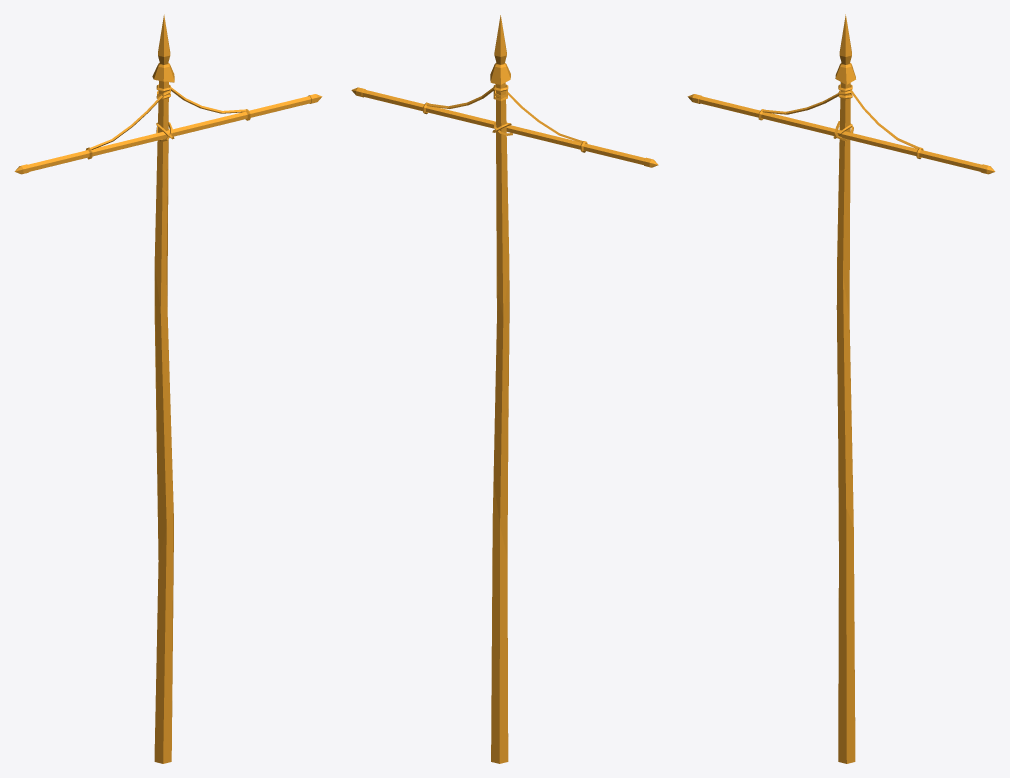
Rendered from SM_Flag_Stand_Wood_T_C_Fantasy.fbx.
The picture shows the model from 3 angles, left to right: view 1: azimuth 30°, elevation 25°; view 2: azimuth 150°, elevation 25°; view 3: azimuth 330°, elevation 25°; orthographic projection.
Visible parts, largest first — view 1: flag-stand-wood-t-c-fantasy; view 2: flag-stand-wood-t-c-fantasy; view 3: flag-stand-wood-t-c-fantasy.
Boxes of the visible parts, x1=… form: flag-stand-wood-t-c-fantasy: x1=14, y1=14, x2=322, y2=763; flag-stand-wood-t-c-fantasy: x1=351, y1=15, x2=658, y2=763; flag-stand-wood-t-c-fantasy: x1=687, y1=14, x2=995, y2=763.
Bounding box in the file's own units: 2.47 × 5.71 × 0.1946.
